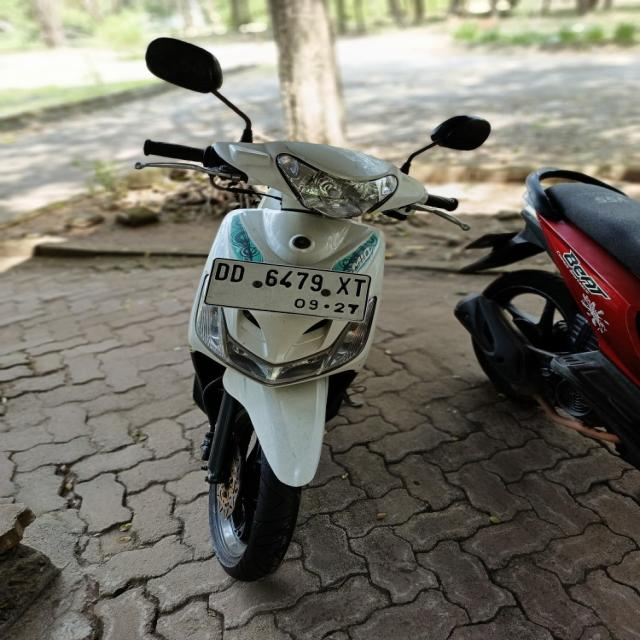plates: (198, 258, 382, 318)
